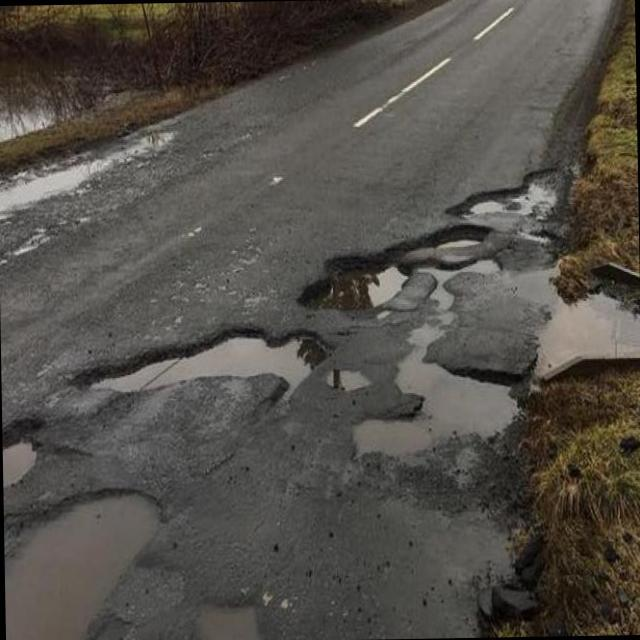Pothole: (4, 492, 158, 640), (352, 327, 517, 454), (97, 336, 324, 394), (329, 268, 407, 307), (196, 604, 258, 640), (2, 441, 36, 486), (432, 270, 453, 311), (331, 371, 369, 389), (479, 260, 497, 270)
